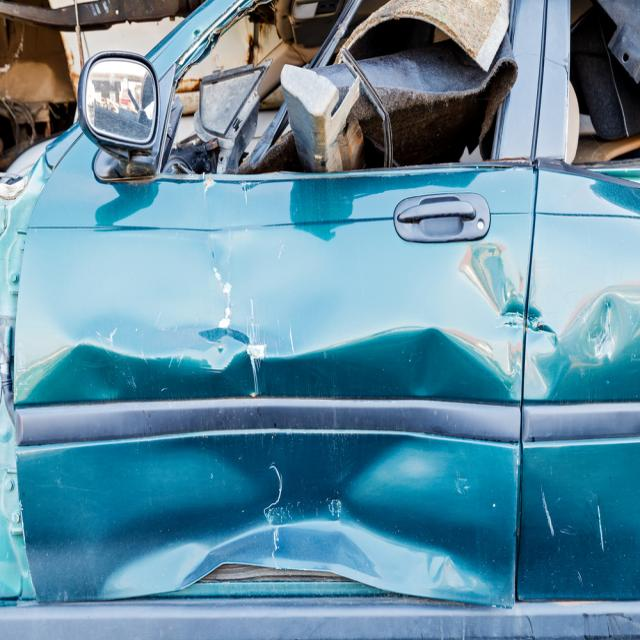dent: (18, 330, 513, 604), (525, 288, 630, 403), (461, 244, 523, 328)
scratch: (201, 252, 270, 369)
